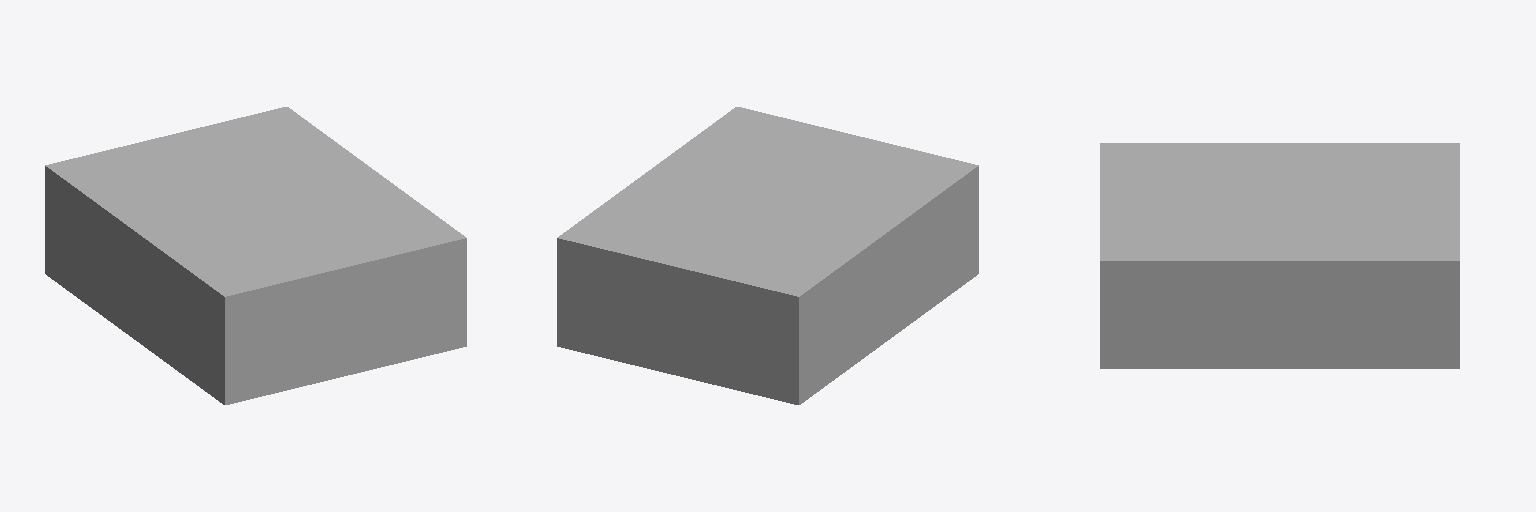
Rendered from room-of-boxes.obj.
The picture shows the model from 3 angles: view 1: azimuth 30°, elevation 25°; view 2: azimuth 150°, elevation 25°; view 3: azimuth 270°, elevation 25°; orthographic projection.
Parts seen in each view (by area): view 1: Walls_Cube; view 2: Walls_Cube; view 3: Walls_Cube.
Boxes of the visible parts, <box> form: Walls_Cube: <box>45,107,466,404</box>; Walls_Cube: <box>557,107,978,404</box>; Walls_Cube: <box>1100,143,1459,368</box>.
Size of the model in its own units: 7 by 3 by 9.